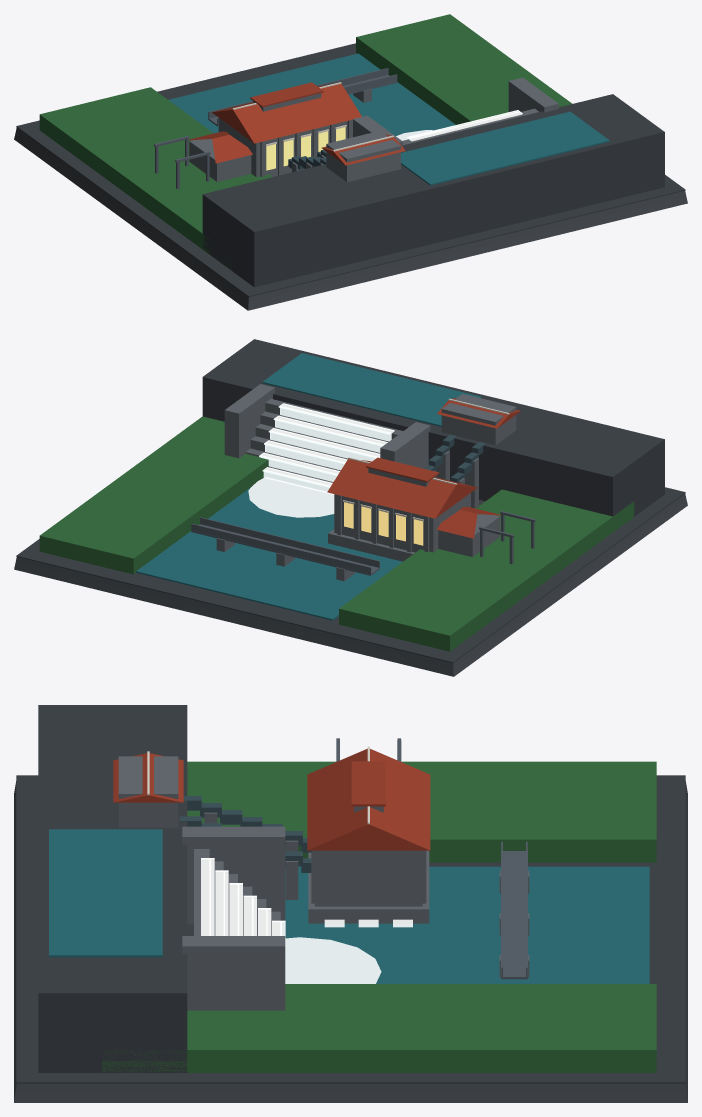
File: lm_19_thuy_dien_ankroet.glb
The picture shows the model from 3 angles, top to bottom: view 1: azimuth 30°, elevation 25°; view 2: azimuth 150°, elevation 25°; view 3: azimuth 270°, elevation 25°; orthographic projection. The views are drawn at different scales.
Visible parts, largest first — view 1: Ankroet_Gorge_Bedrock, Ankroet_Canyon_Forest_Banks, Ankroet_Stream_And_Reservoir_Water, Foundation_Skirt, Foundation_Plinth_Trim, Ankroet_1945_Granite_Architecture, Ankroet_Powerhouse_Main_Tile_Roof, Ankroet_Switchyard_And_Bridge_Truss, Ankroet_Turbine_Hall_Windows, Ankroet_Control_Annex_Hip_Roof, Ankroet_Terracotta_Roof_Monitors, Ankroet_Spillway_Waterfall_Cascade (+1 smaller); view 2: Ankroet_Canyon_Forest_Banks, Ankroet_Gorge_Bedrock, Ankroet_Stream_And_Reservoir_Water, Ankroet_1945_Granite_Architecture, Foundation_Skirt, Ankroet_Spillway_Waterfall_Cascade, Foundation_Plinth_Trim, Ankroet_Powerhouse_Main_Tile_Roof, Ankroet_Switchyard_And_Bridge_Truss, Ankroet_Turbine_Hall_Windows, Ankroet_Control_Annex_Hip_Roof, Ankroet_Twin_Steel_Penstocks (+2 smaller); view 3: Ankroet_Canyon_Forest_Banks, Ankroet_Stream_And_Reservoir_Water, Ankroet_Gorge_Bedrock, Ankroet_1945_Granite_Architecture, Foundation_Plinth_Trim, Foundation_Skirt, Ankroet_Powerhouse_Main_Tile_Roof, Ankroet_Spillway_Waterfall_Cascade, Ankroet_Switchyard_And_Bridge_Truss, Ankroet_Twin_Steel_Penstocks, Ankroet_Terracotta_Roof_Monitors, Ankroet_Intake_Headhouse_Roof.
Part boxes in pixels (left/top/right/bottom): Ankroet_Gorge_Bedrock: left=202, top=94, right=664, bottom=287; Ankroet_Canyon_Forest_Banks: left=39, top=14, right=572, bottom=270; Ankroet_Stream_And_Reservoir_Water: left=168, top=53, right=609, bottom=185; Foundation_Skirt: left=14, top=127, right=687, bottom=310; Foundation_Plinth_Trim: left=16, top=43, right=685, bottom=296; Ankroet_1945_Granite_Architecture: left=189, top=77, right=558, bottom=182; Ankroet_Powerhouse_Main_Tile_Roof: left=212, top=83, right=361, bottom=143; Ankroet_Switchyard_And_Bridge_Truss: left=154, top=68, right=397, bottom=189; Ankroet_Turbine_Hall_Windows: left=266, top=127, right=345, bottom=170; Ankroet_Control_Annex_Hip_Roof: left=189, top=131, right=252, bottom=163; Ankroet_Terracotta_Roof_Monitors: left=250, top=82, right=323, bottom=107; Ankroet_Spillway_Waterfall_Cascade: left=396, top=110, right=522, bottom=141; Ankroet_Canyon_Forest_Banks: left=39, top=416, right=634, bottom=651; Ankroet_Gorge_Bedrock: left=202, top=339, right=664, bottom=516; Ankroet_Stream_And_Reservoir_Water: left=136, top=353, right=481, bottom=620; Ankroet_1945_Granite_Architecture: left=216, top=384, right=516, bottom=581; Foundation_Skirt: left=14, top=494, right=687, bottom=676; Ankroet_Spillway_Waterfall_Cascade: left=248, top=403, right=394, bottom=517; Foundation_Plinth_Trim: left=16, top=487, right=685, bottom=663; Ankroet_Powerhouse_Main_Tile_Roof: left=327, top=459, right=477, bottom=518; Ankroet_Switchyard_And_Bridge_Truss: left=191, top=511, right=535, bottom=575; Ankroet_Turbine_Hall_Windows: left=344, top=502, right=423, bottom=545; Ankroet_Control_Annex_Hip_Roof: left=436, top=506, right=500, bottom=538; Ankroet_Twin_Steel_Penstocks: left=424, top=434, right=485, bottom=482; Ankroet_Canyon_Forest_Banks: left=102, top=761, right=656, bottom=1072; Ankroet_Stream_And_Reservoir_Water: left=49, top=829, right=649, bottom=983; Ankroet_Gorge_Bedrock: left=38, top=705, right=187, bottom=1072; Ankroet_1945_Granite_Architecture: left=118, top=756, right=529, bottom=1010; Foundation_Plinth_Trim: left=16, top=775, right=685, bottom=1083; Foundation_Skirt: left=14, top=781, right=687, bottom=1102; Ankroet_Powerhouse_Main_Tile_Roof: left=307, top=748, right=430, bottom=850; Ankroet_Spillway_Waterfall_Cascade: left=201, top=858, right=412, bottom=983; Ankroet_Switchyard_And_Bridge_Truss: left=336, top=738, right=527, bottom=979; Ankroet_Twin_Steel_Penstocks: left=179, top=796, right=311, bottom=872; Ankroet_Terracotta_Roof_Monitors: left=351, top=761, right=385, bottom=806; Ankroet_Intake_Headhouse_Roof: left=113, top=753, right=183, bottom=802.
Bounding box in the file's own units: 103 × 21 × 94.81.
